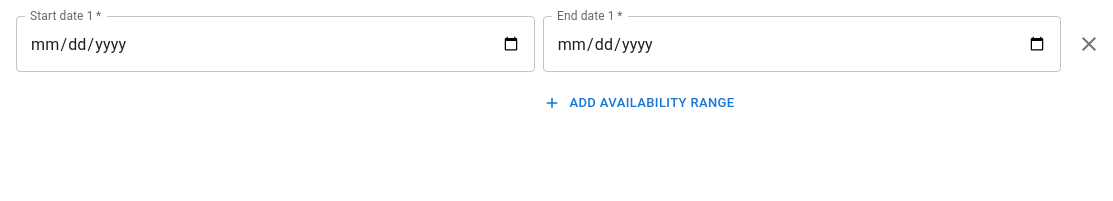
Test: AvailabilityRange › should allow user to add more date input fields
Click the button "Add availability range". click: coordinates (639, 103)
box: [544,94,735,112]
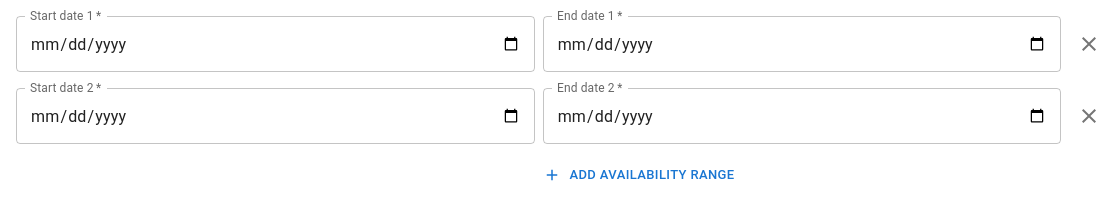
Expected: the button "Add availability range" is shown, [544,166,735,184]
Expected: the date field with id "startDateInput1" is shown, [16,88,535,144]
Expected: the date field with id "endDateInput1" is shown, [543,88,1061,144]
